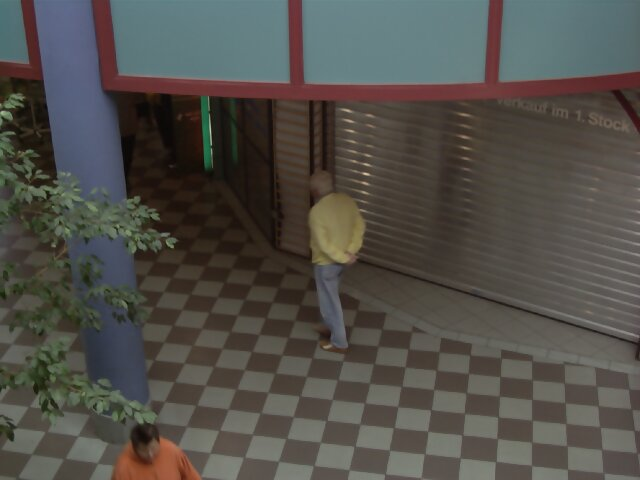person: (291, 165, 376, 353)
